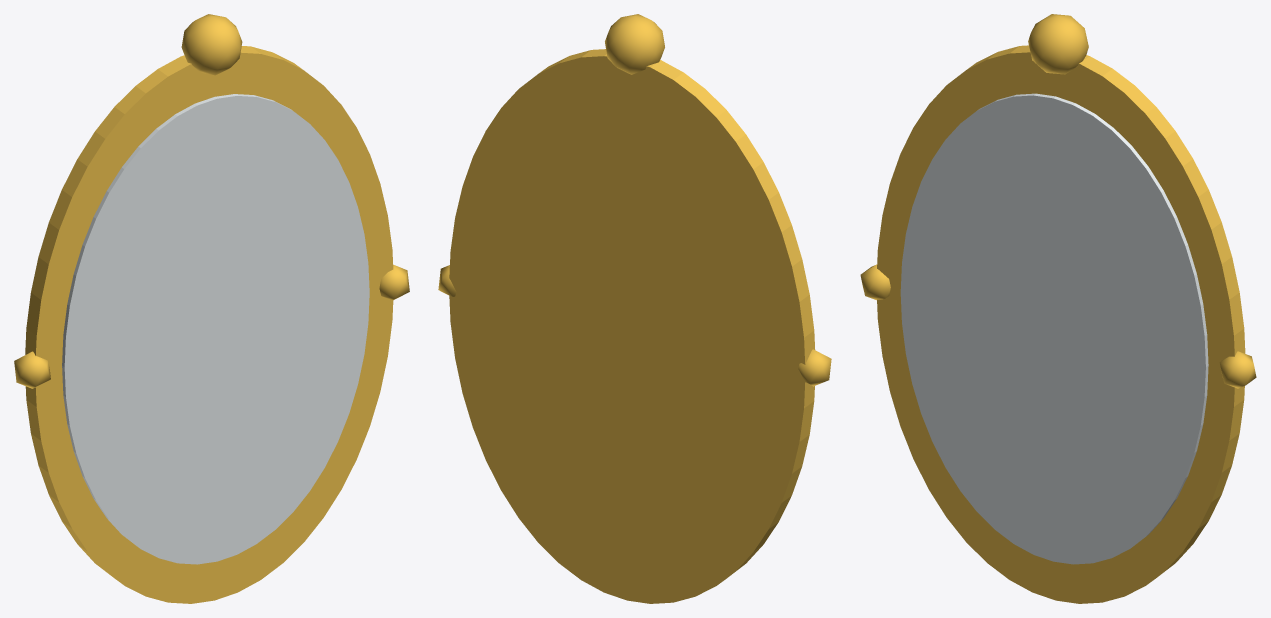
File: specchio.glb
The picture shows the model from 3 angles, left to right: view 1: azimuth 30°, elevation 25°; view 2: azimuth 150°, elevation 25°; view 3: azimuth 330°, elevation 25°; orthographic projection.
Visible parts, largest first — view 1: Cylinder.001, Cylinder, Icosphere, Icosphere.001, Icosphere.002; view 2: Cylinder, Icosphere, Icosphere.001; view 3: Cylinder.001, Cylinder, Icosphere, Icosphere.002, Icosphere.001.
Part boxes in pixels (<box>): Cylinder.001: <box>62,94,369,564</box>; Cylinder: <box>25,46,393,603</box>; Icosphere: <box>181,14,242,75</box>; Icosphere.001: <box>14,351,50,388</box>; Icosphere.002: <box>379,264,409,300</box>; Cylinder: <box>449,49,815,603</box>; Icosphere: <box>605,14,664,74</box>; Icosphere.001: <box>798,349,831,386</box>; Cylinder.001: <box>900,93,1208,564</box>; Cylinder: <box>877,45,1245,603</box>; Icosphere: <box>1028,14,1088,74</box>; Icosphere.002: <box>1219,351,1256,388</box>; Icosphere.001: <box>860,264,890,300</box>.
Bounding box in the file's own units: 0.8716 × 1.24 × 0.12.
